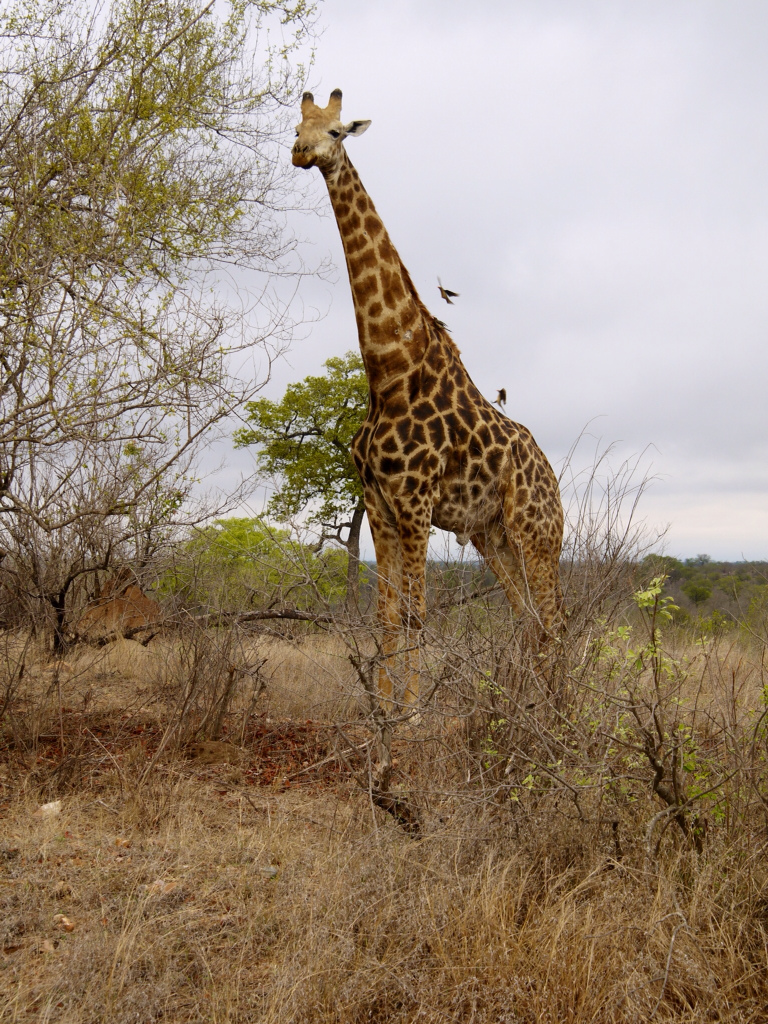giraffe: (253, 63, 600, 711)
